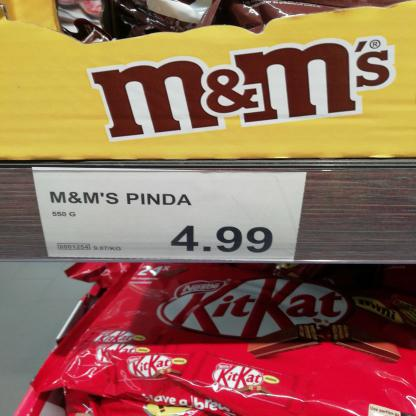prtg: (32, 166, 308, 264)
